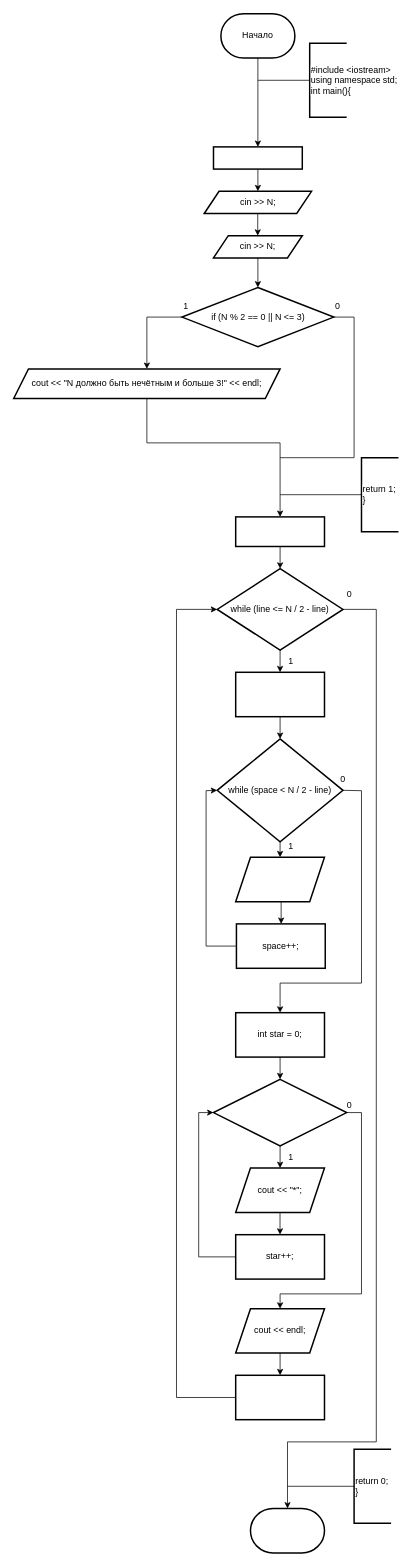
Some shapes in this 411 by 1566 pixel diagram are drawn without their labels. The shapes that lost their labels are listed below. From the top down, each one's centre as x and y in pixels, then its label:
(x=257, y=157): int N;
(x=280, y=531): int line = 0;
(x=280, y=694): int space = 0;
(x=280, y=879): cout << " ";
(x=279, y=1112): while (star < 2 * line + 1)
(x=280, y=1397): line++;
(x=287, y=1530): Конец
